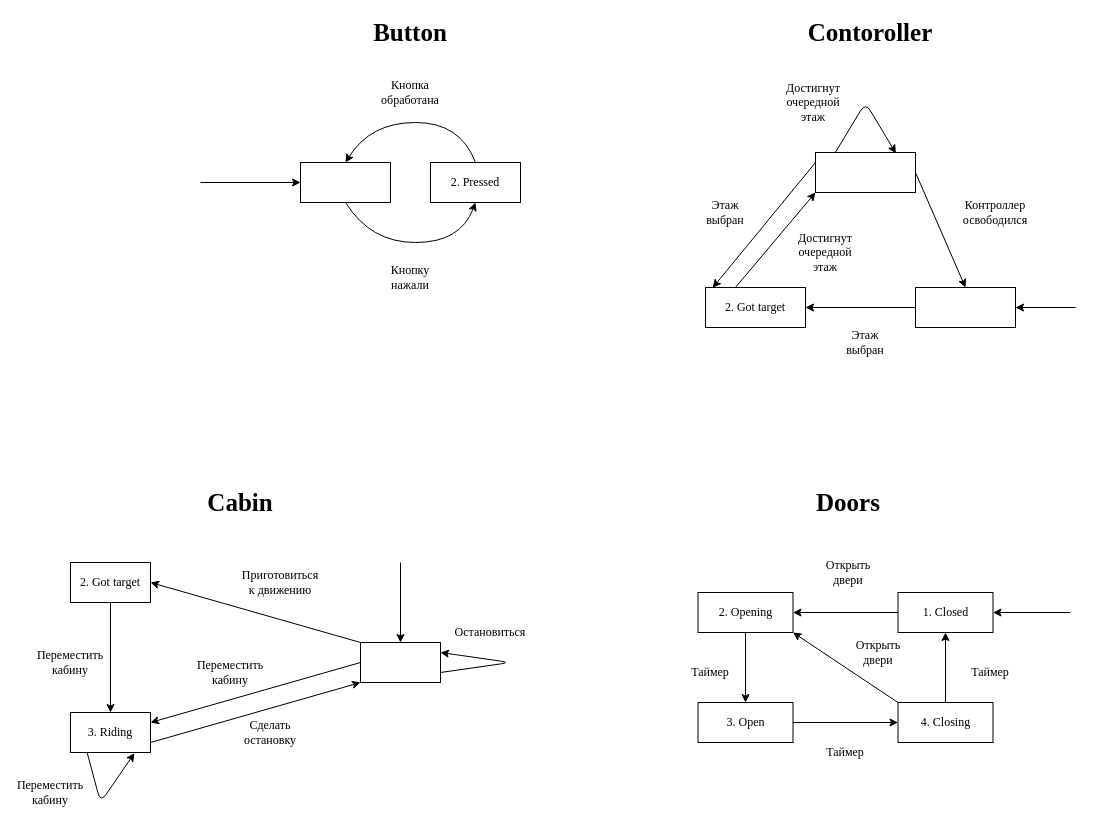
This 1101x828 diagram has some shape labels left out. The box of each missing label's shape, as (x1, y1, x2, y2) in pixels:
1. Free: (914, 286, 1016, 328)
1. Not pressed: (300, 162, 390, 202)
1. Standing: (360, 642, 440, 682)
3. Busy: (814, 152, 916, 192)
